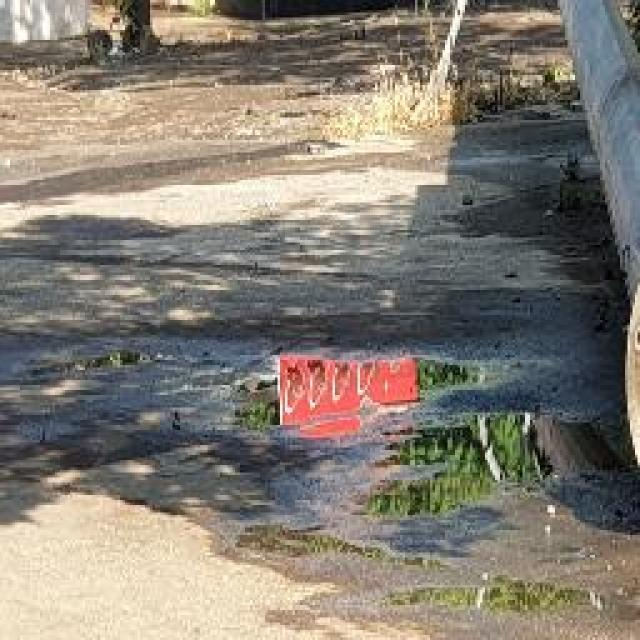waterlogging: (0, 303, 618, 555)
